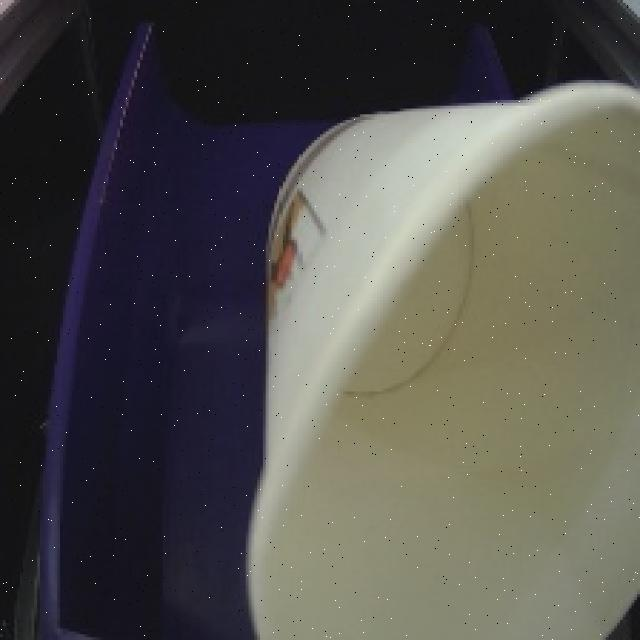cups: (234, 63, 640, 640)
